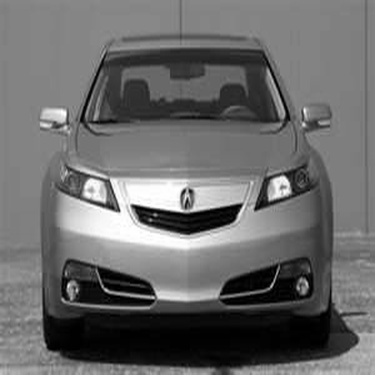car: (21, 24, 344, 351)
